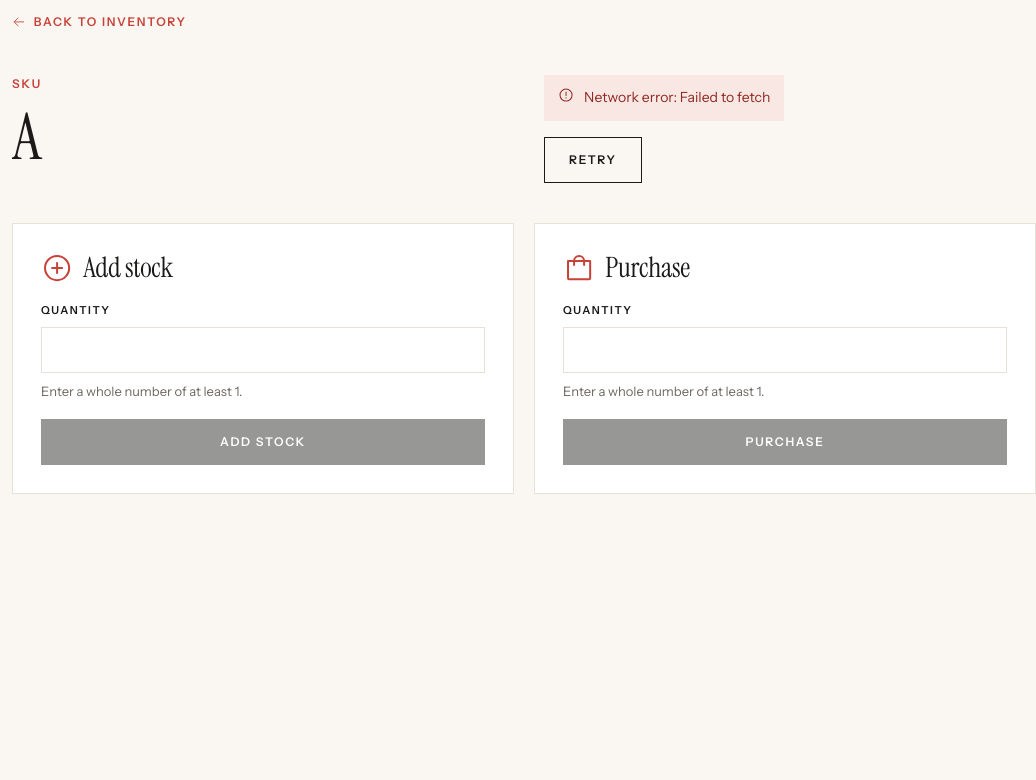
it: network failure shows an error state with Retry › SkuView
This screenshot has width=1036, height=780.
expect the message shows "Network": met, box [584, 88, 770, 106]
Click the button "Retry" at (593,160), box [544, 137, 642, 183]
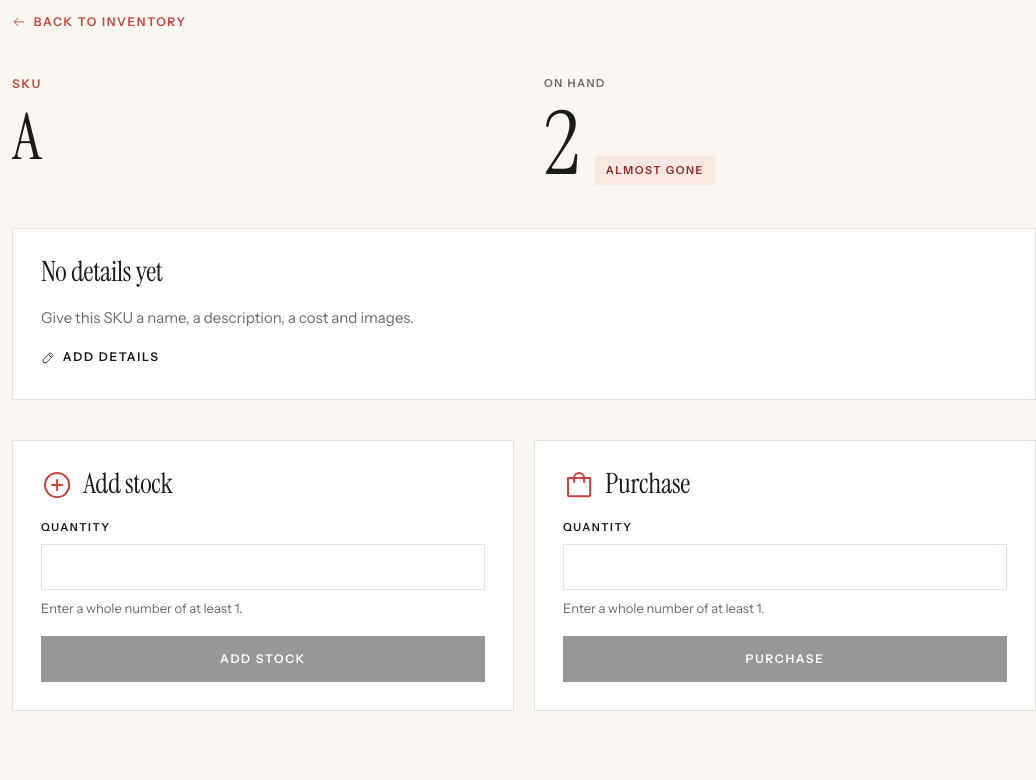
expect the text with test id "quantity" reads "2": met, box [544, 87, 579, 201]
